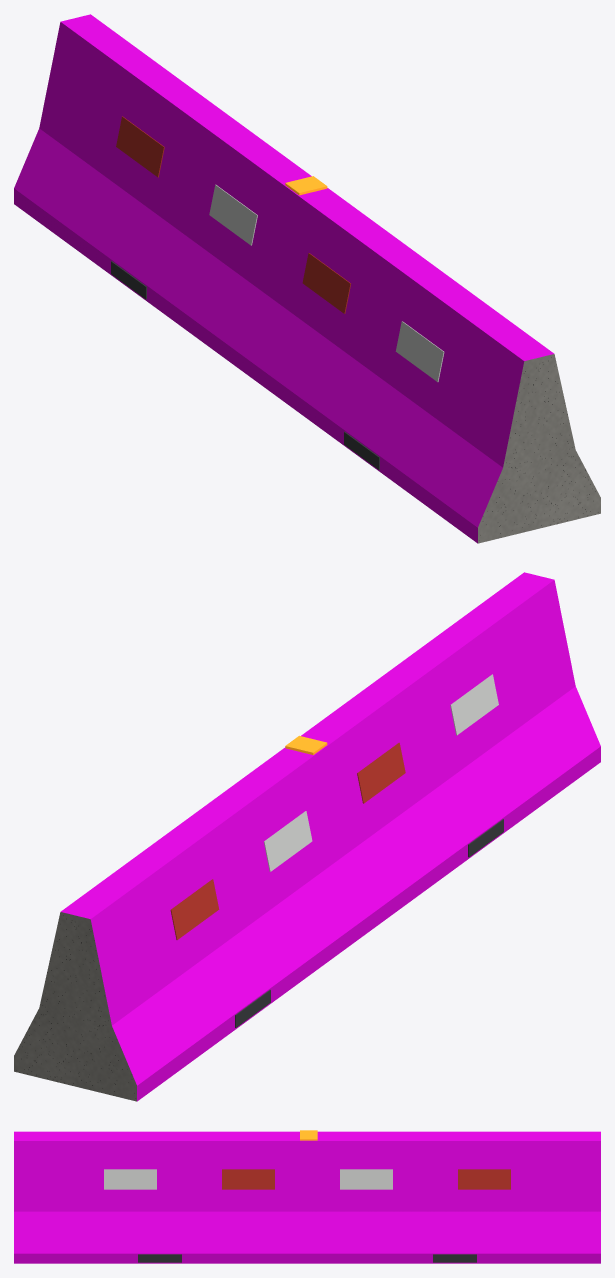
Rendered from EN_Barrier_Concrete_NJ_4m.fbx.
3 renders of one model, top to bottom at view 1: azimuth 30°, elevation 25°; view 2: azimuth 150°, elevation 25°; view 3: azimuth 270°, elevation 25°, orthographic. The views are drawn at different scales.
Visible parts, largest first — view 1: COL_Barrier, EN_Barrier_Concrete_NJ_4m_Mesh; view 2: COL_Barrier, EN_Barrier_Concrete_NJ_4m_Mesh; view 3: COL_Barrier, EN_Barrier_Concrete_NJ_4m_Mesh.
Part boxes in pixels (x1,y1,x2,y2): COL_Barrier: (14,14,554,543); EN_Barrier_Concrete_NJ_4m_Mesh: (111,116,600,543); COL_Barrier: (60,572,600,1101); EN_Barrier_Concrete_NJ_4m_Mesh: (14,674,503,1101); COL_Barrier: (14,1131,600,1263); EN_Barrier_Concrete_NJ_4m_Mesh: (104,1130,510,1262).
Bounding box in the file's own units: 0.62 × 0.821 × 3.98.
